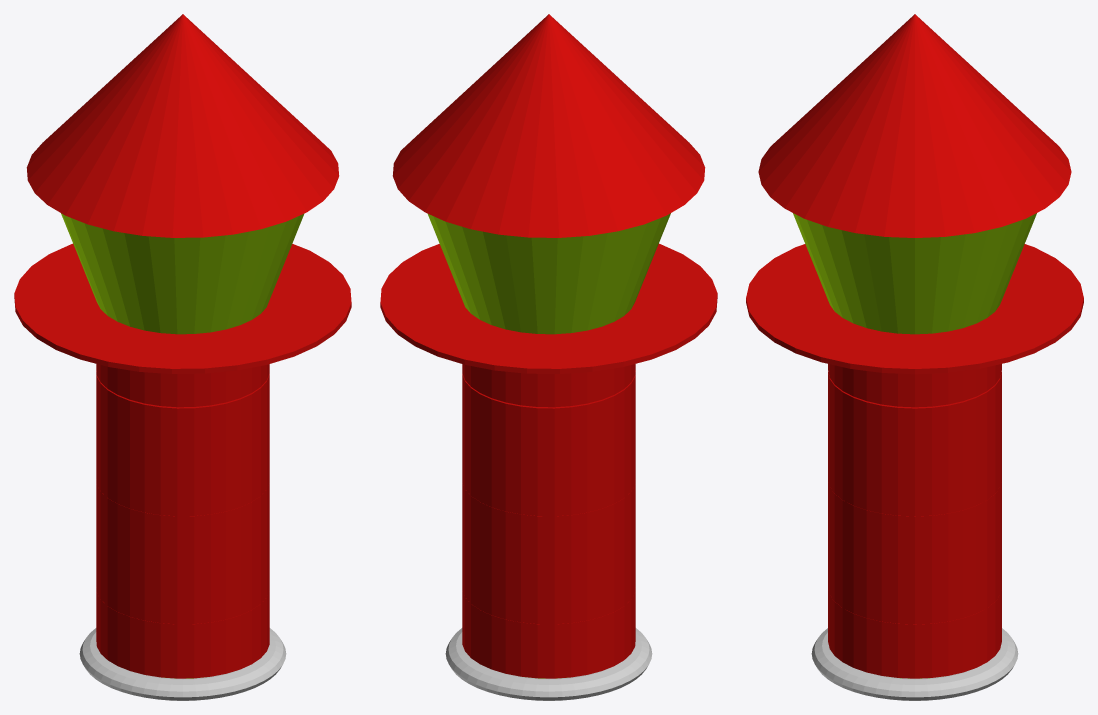
The model's file is Vuurtoren.obj.
The picture shows the model from 3 angles, left to right: view 1: azimuth 30°, elevation 25°; view 2: azimuth 150°, elevation 25°; view 3: azimuth 270°, elevation 25°; orthographic projection.
Visible parts, largest first — view 1: Cone, Cylinder.007, Cylinder, Cylinder.006, Cylinder.001, Cylinder.002, Cylinder.003, Cylinder.004, Torus, Cylinder.005; view 2: Cone, Cylinder.007, Cylinder, Cylinder.006, Cylinder.001, Cylinder.003, Cylinder.002, Cylinder.004, Torus, Cylinder.005; view 3: Cone, Cylinder.007, Cylinder, Cylinder.006, Cylinder.001, Cylinder.004, Cylinder.002, Cylinder.003, Torus, Cylinder.005.
Boxes of the visible parts, <box> form: Cone: <box>26,14,339,237</box>; Cylinder.007: <box>14,243,351,373</box>; Cylinder: <box>61,213,304,678</box>; Cylinder.006: <box>96,371,269,462</box>; Cylinder.001: <box>96,588,269,678</box>; Cylinder.002: <box>96,534,269,624</box>; Cylinder.003: <box>96,426,269,516</box>; Cylinder.004: <box>96,480,269,570</box>; Torus: <box>79,628,286,700</box>; Cylinder.005: <box>96,364,269,407</box>; Cone: <box>392,14,705,237</box>; Cylinder.007: <box>380,243,717,373</box>; Cylinder: <box>427,213,670,678</box>; Cylinder.006: <box>462,371,635,462</box>; Cylinder.001: <box>462,588,635,678</box>; Cylinder.003: <box>462,426,635,516</box>; Cylinder.002: <box>462,534,635,624</box>; Cylinder.004: <box>462,480,635,570</box>; Torus: <box>445,628,652,700</box>; Cylinder.005: <box>462,364,635,407</box>; Cone: <box>758,14,1071,237</box>; Cylinder.007: <box>746,244,1083,374</box>; Cylinder: <box>793,213,1036,678</box>; Cylinder.006: <box>828,372,1001,462</box>; Cylinder.001: <box>828,588,1001,678</box>; Cylinder.004: <box>828,480,1001,570</box>; Cylinder.002: <box>828,534,1001,624</box>; Cylinder.003: <box>828,426,1001,516</box>; Torus: <box>811,628,1018,700</box>; Cylinder.005: <box>828,364,1001,407</box>.
Bounding box in the file's own units: 4.09 × 8.67 × 4.09.
